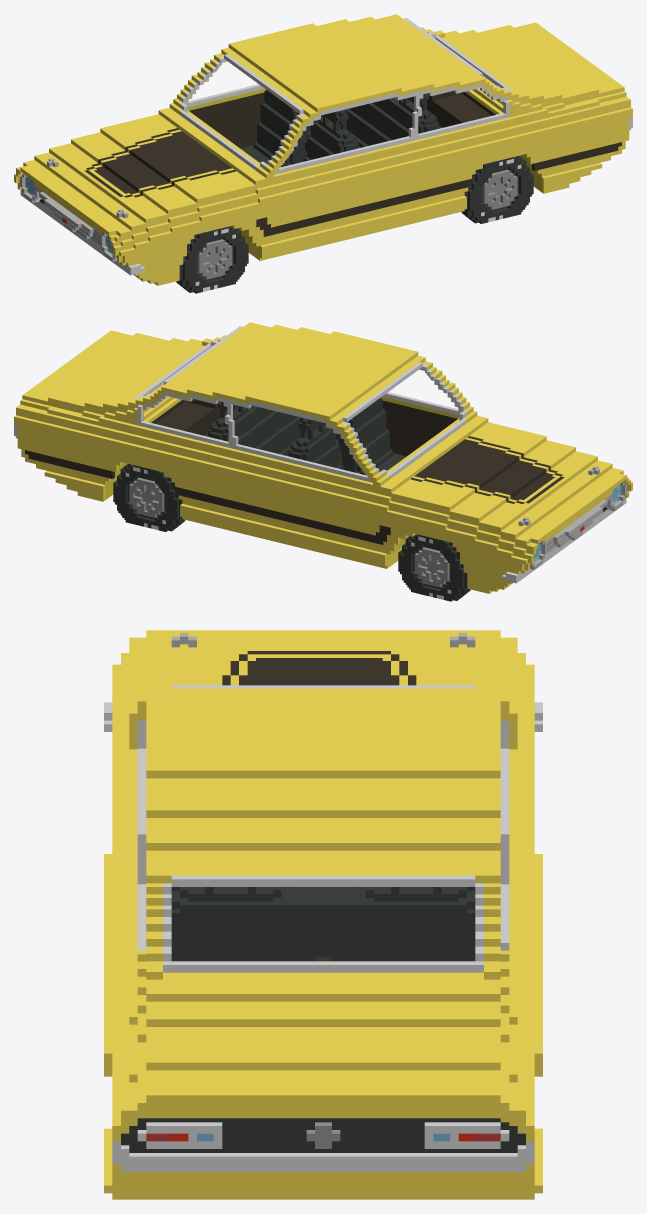
File: maverick.fbx
The picture shows the model from 3 angles, top to bottom: view 1: azimuth 30°, elevation 25°; view 2: azimuth 150°, elevation 25°; view 3: azimuth 270°, elevation 25°; orthographic projection. The views are drawn at different scales.
Parts seen in each view (by area): view 1: ObjObject.003; view 2: ObjObject.003; view 3: ObjObject.003.
Part boxes in pixels (x1,y1,x2,y2): ObjObject.003: (14, 14, 632, 293); ObjObject.003: (14, 322, 632, 601); ObjObject.003: (104, 630, 542, 1199).
Bounding box in the file's own units: 1420 × 390 × 520.
Materials: 1 (1 with a texture image).
